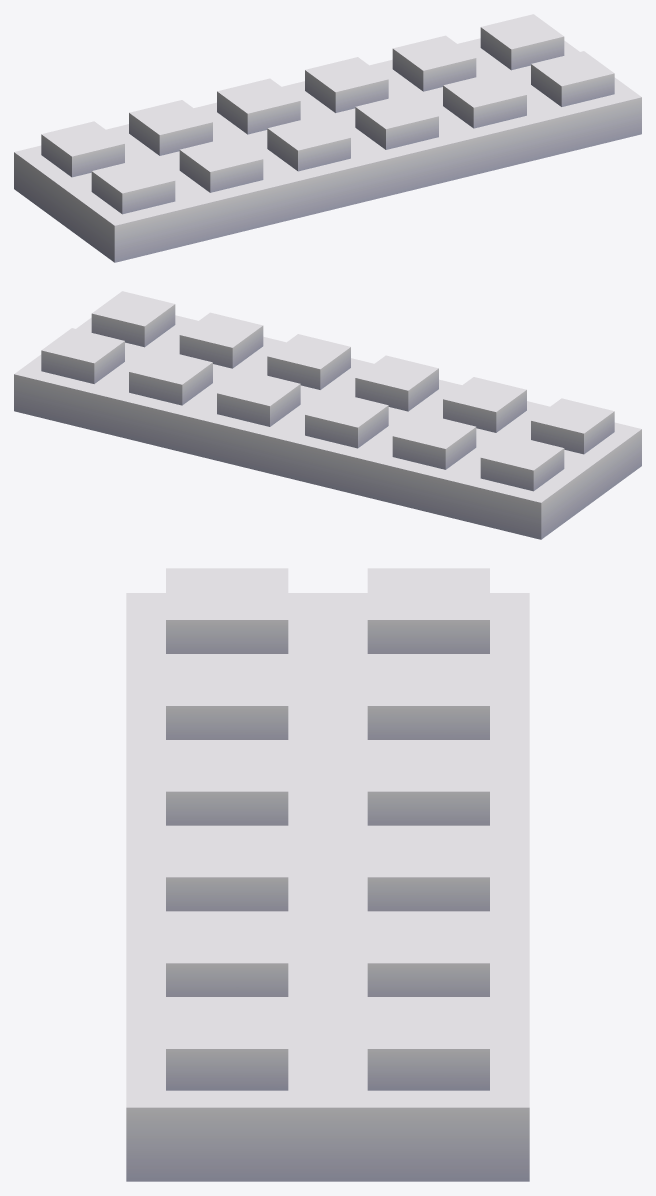
The model's file is kenney-brick-square-lq-plate-2-x-6.glb.
The picture shows the model from 3 angles, top to bottom: view 1: azimuth 30°, elevation 25°; view 2: azimuth 150°, elevation 25°; view 3: azimuth 270°, elevation 25°; orthographic projection. The views are drawn at different scales.
Parts seen in each view (by area): view 1: square-lq-plate-2x6; view 2: square-lq-plate-2x6; view 3: square-lq-plate-2x6.
Part boxes in pixels (box(x1,y1,x2,y2)): square-lq-plate-2x6: box(14, 14, 641, 262); square-lq-plate-2x6: box(14, 291, 641, 539); square-lq-plate-2x6: box(126, 568, 529, 1181).
Bounding box in the file's own units: 0.477 × 0.05 × 0.158.
1 material, 1 textured.
